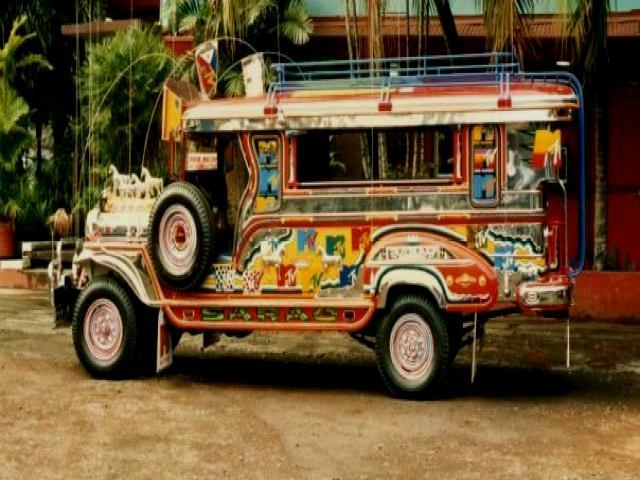jeepney: (47, 65, 579, 388)
